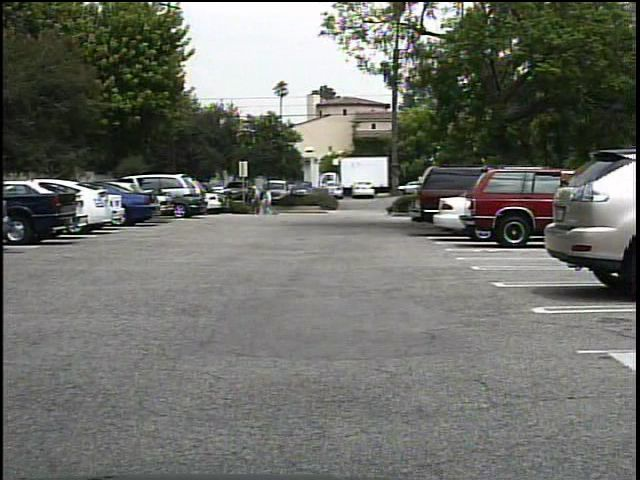person: (249, 185, 264, 216), (265, 185, 279, 218), (258, 185, 271, 216)
